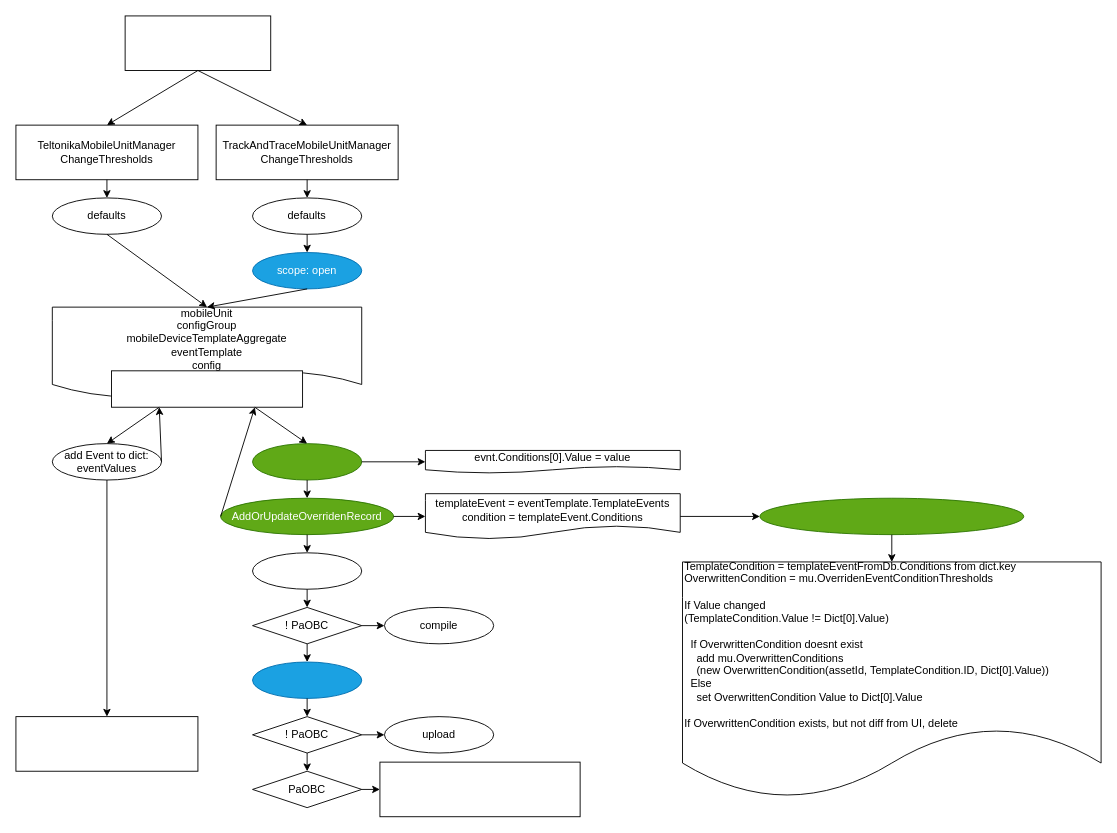
Image size: 1117x833. Some labels were removed from this diagram. The centre of each missing label's shape, as x and y in pixels:
"AddOrUpdateOverridenEventConditionThresholds" goes at (x=891, y=516).
"ConfigChanged" goes at (x=307, y=570).
"DeviceConfigClient.MobileUnits UpdateMobileUnitEventThresholds" goes at (x=106, y=743).
"DeviceConfigClient.MobileUnits. RequestMobileUnitConfigurationCompile" goes at (x=479, y=789).
"DeviceIntegrationManager ChangeThresholds" goes at (x=197, y=43).
"FOR EACH (evnt) in config.MonitoredEvents" goes at (x=207, y=388).
"scope: close" goes at (x=307, y=679).
"SetThreshold" goes at (x=307, y=461).
